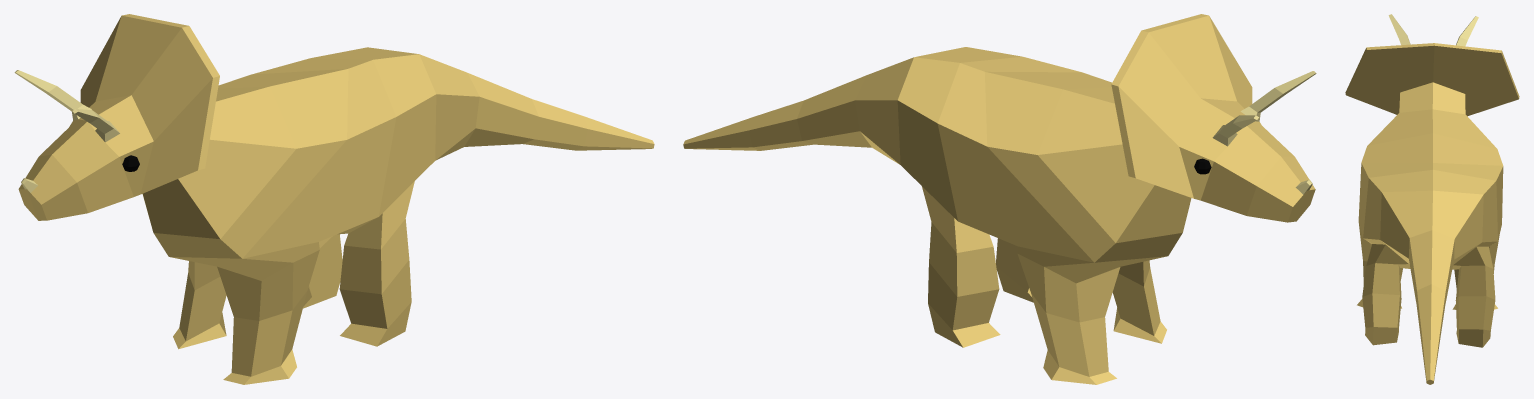
Rendered from Triceratops.fbx.
3 views of the same model, side by side, from view 1: azimuth 30°, elevation 25°; view 2: azimuth 150°, elevation 25°; view 3: azimuth 270°, elevation 25° (orthographic). The views are drawn at different scales.
Parts seen in each view (by area): view 1: Circle.014; view 2: Circle.014; view 3: Circle.014.
Boxes of the visible parts, left/top/right/bottom form: Circle.014: left=14, top=14, right=654, bottom=384; Circle.014: left=683, top=14, right=1316, bottom=384; Circle.014: left=1345, top=14, right=1519, bottom=384.
Bounding box in the file's own units: 391 × 200 × 126.
